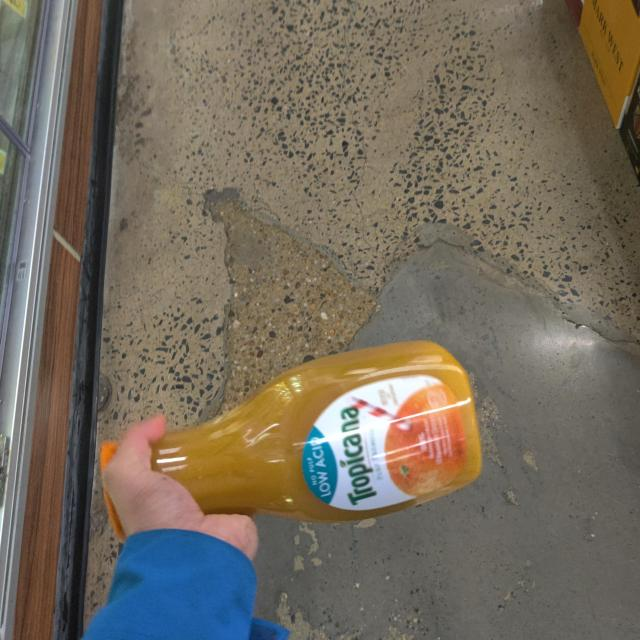Juice: (76, 348, 514, 522)
